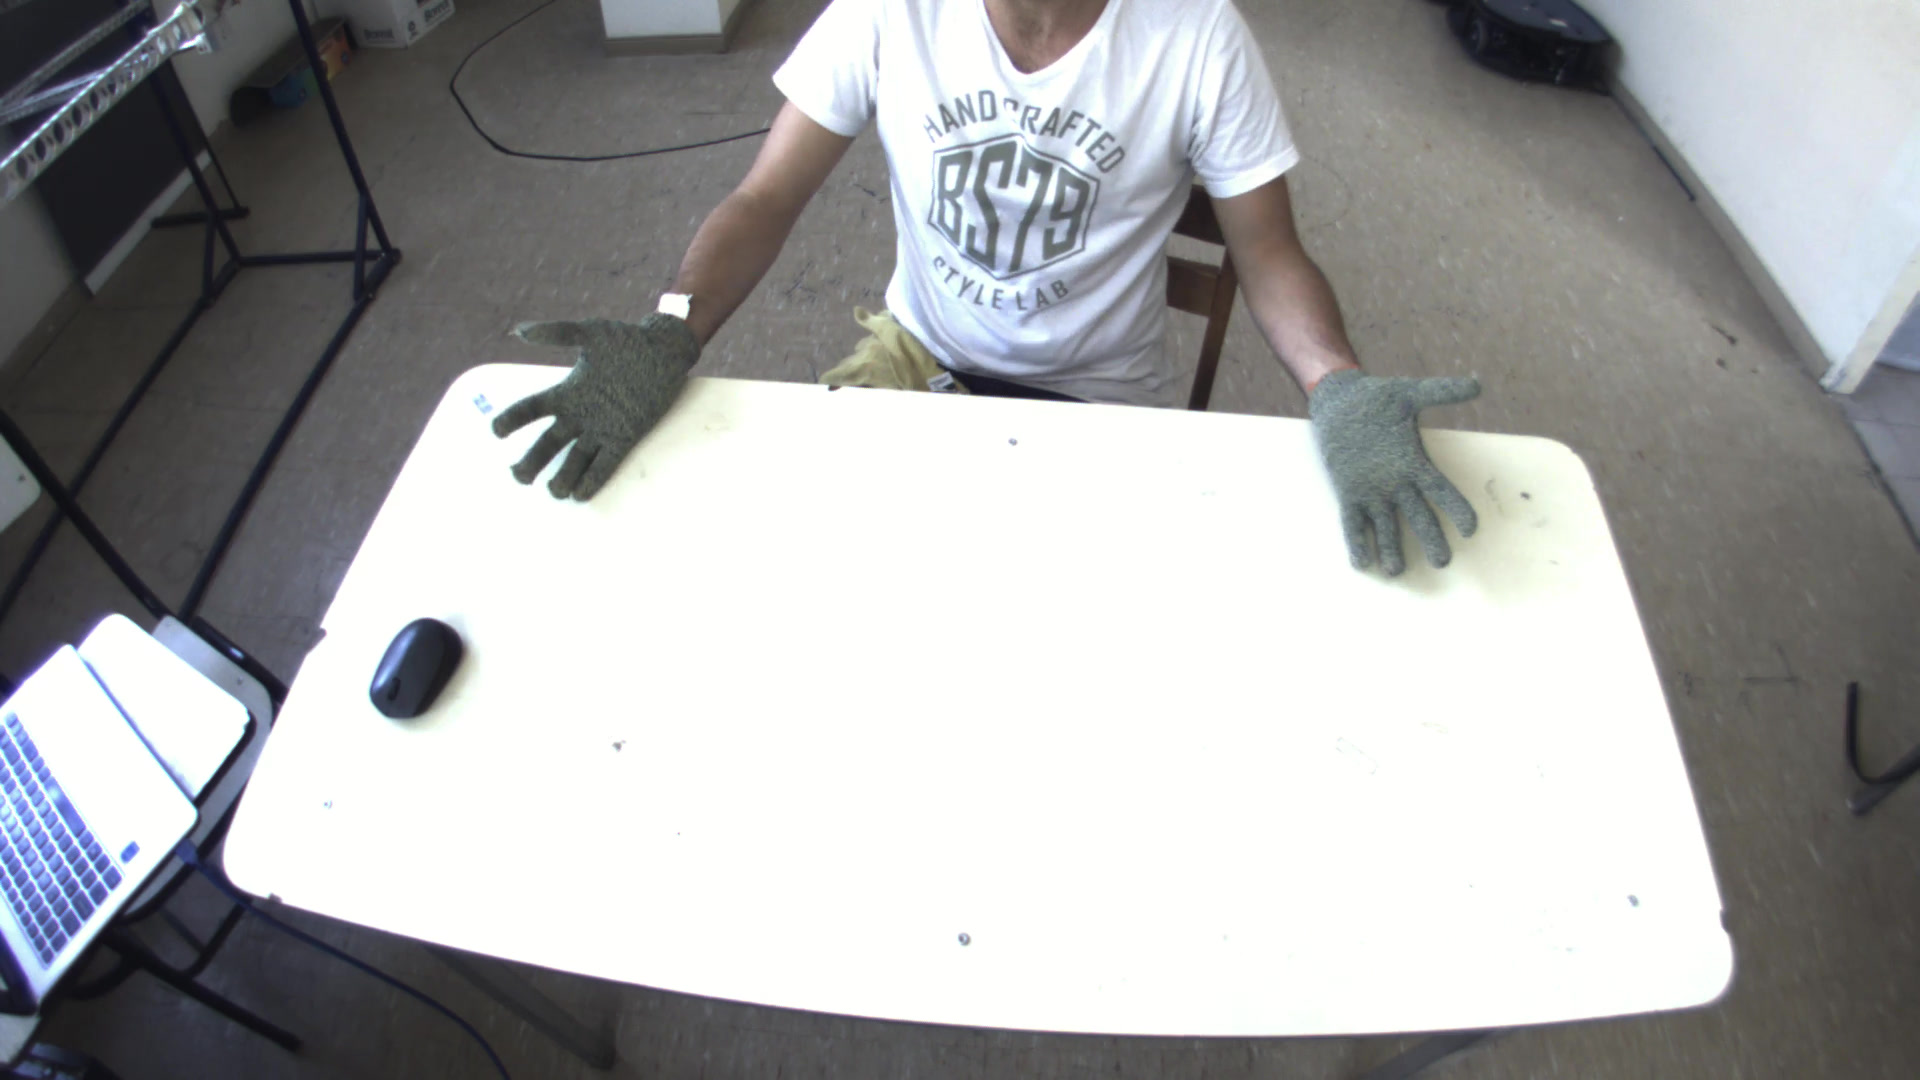hand: (465, 299, 708, 506), (1300, 356, 1505, 585)
